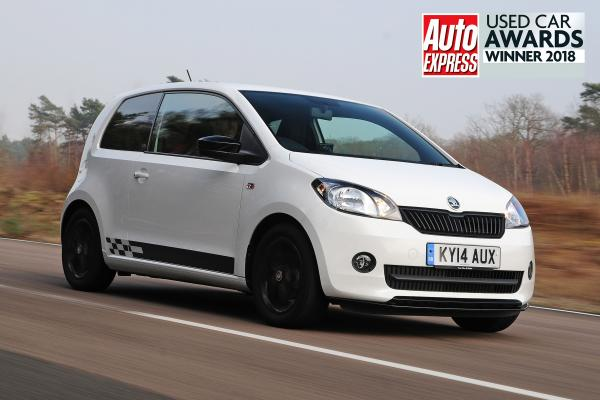Carro: (58, 82, 540, 338)
